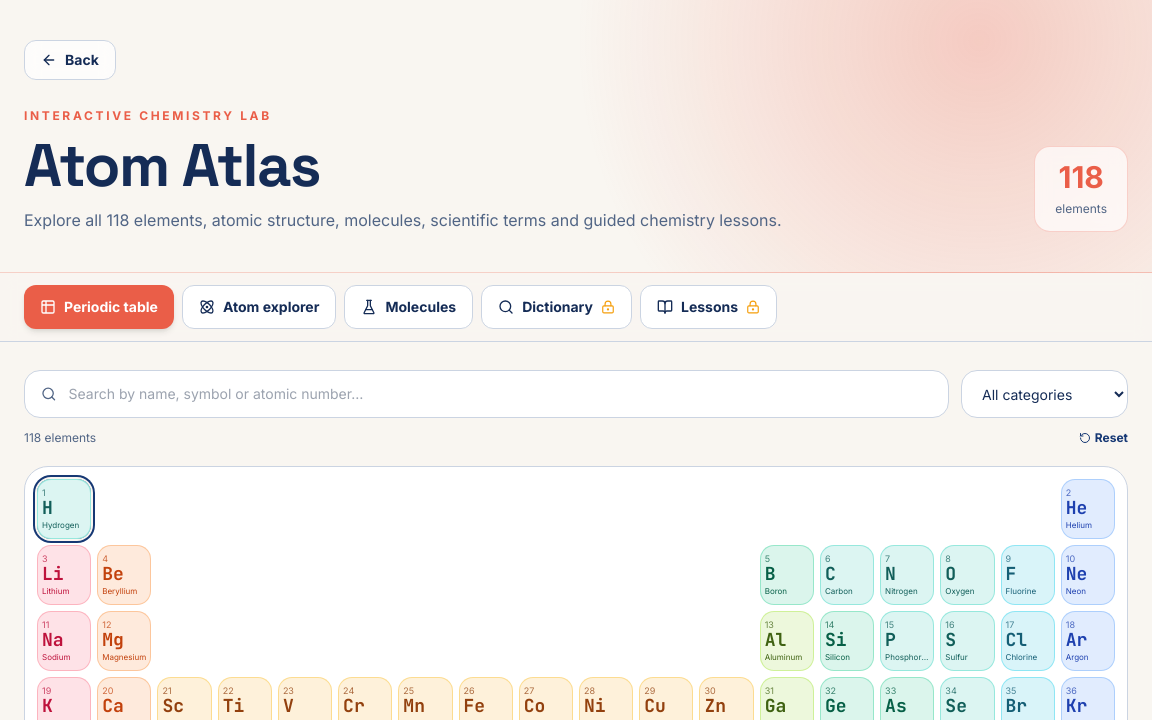
Scenario: Atom Atlas › moves between the in-app periodic table, atom explorer and molecule viewer
Expected: the heading "Atom Atlas" is shown, top-left (24, 127), bottom-right (320, 204)
Click the button "Atom explorer": (259, 307) top-left (182, 285), bottom-right (336, 329)
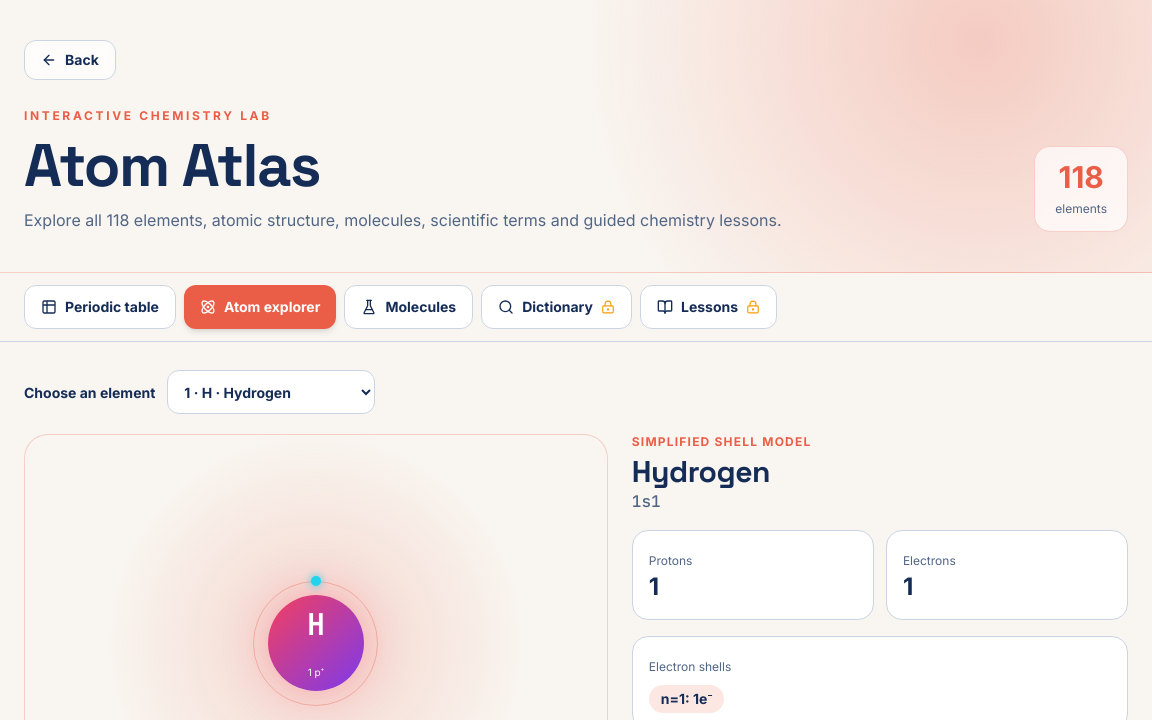
Now the text "Simplified shell model" is shown, box top-left (632, 434), bottom-right (811, 449)
Click the button "Molecules": (409, 307) top-left (344, 285), bottom-right (473, 329)
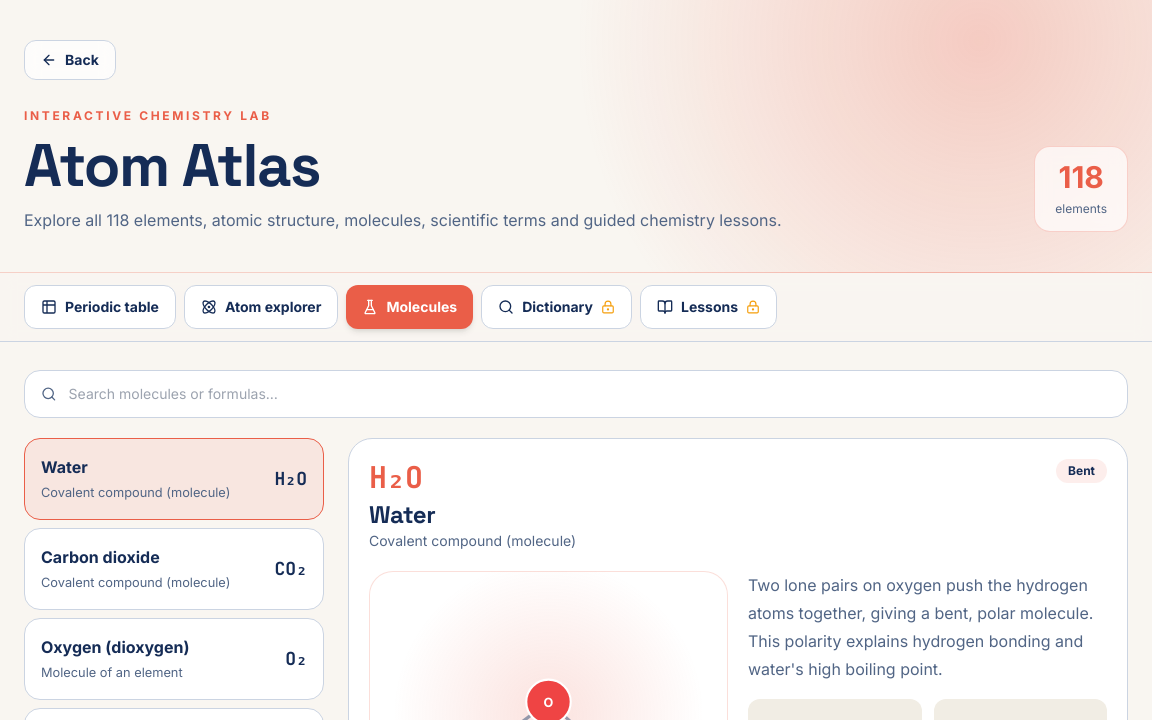
Now the button "Water Covalent compound (molecule) H₂O" is shown, box top-left (24, 438), bottom-right (324, 520)
Now the text "H₂O" is shown 2 times, box top-left (275, 465), bottom-right (307, 493); top-left (369, 457), bottom-right (423, 497)
